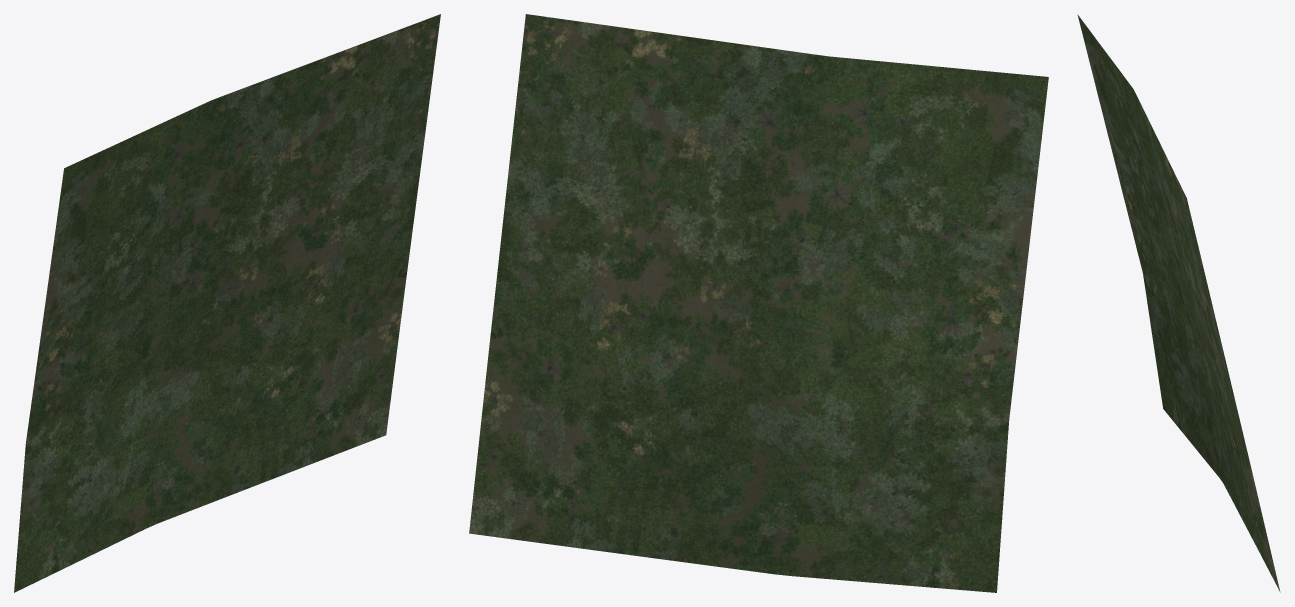
The model's file is terrain_core_06_03.obj.
The picture shows the model from 3 angles, left to right: view 1: azimuth 30°, elevation 25°; view 2: azimuth 150°, elevation 25°; view 3: azimuth 270°, elevation 25°; orthographic projection. The views are drawn at different scales.
Parts seen in each view (by area): view 1: terrain_core_06_03; view 2: terrain_core_06_03; view 3: terrain_core_06_03.
Boxes of the visible parts, bbox=[...] form: terrain_core_06_03: bbox=[14, 14, 440, 592]; terrain_core_06_03: bbox=[469, 14, 1048, 592]; terrain_core_06_03: bbox=[1077, 14, 1280, 592].
Size of the model in its own units: 32 by 32 by 14.92.
Materials: 1 (1 with a texture image).
